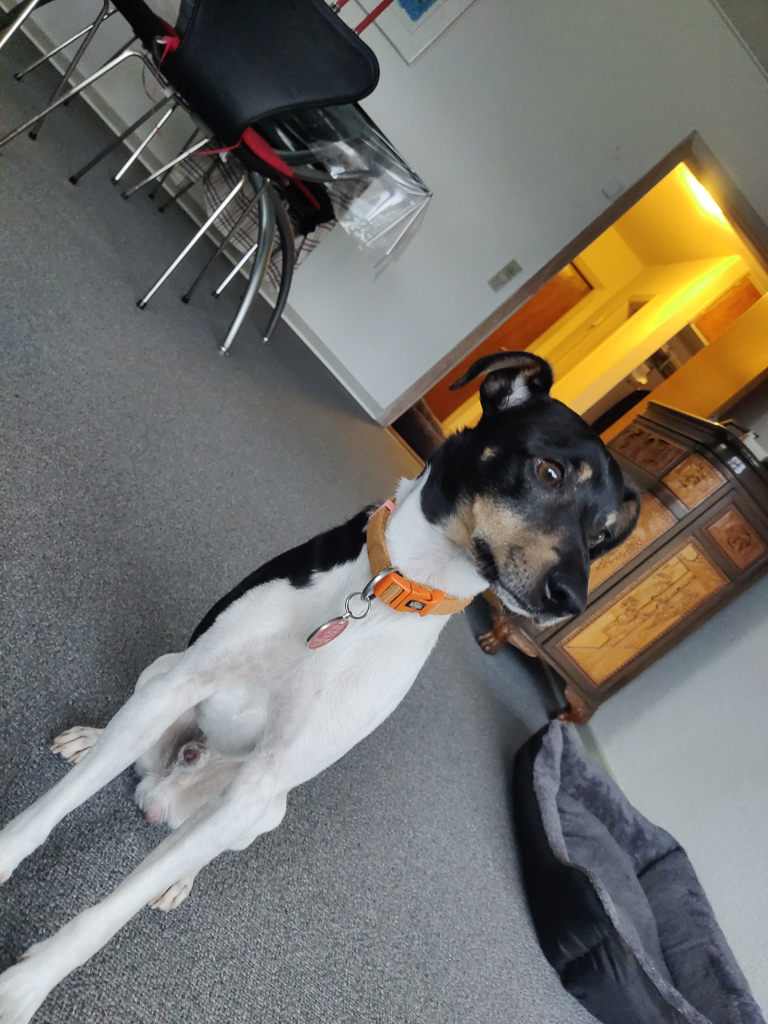Dog: (0, 340, 668, 1024)
